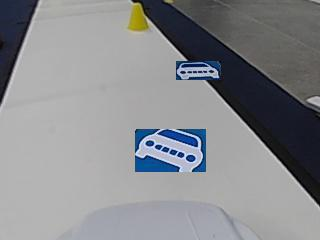cone: (127, 5, 148, 31)
